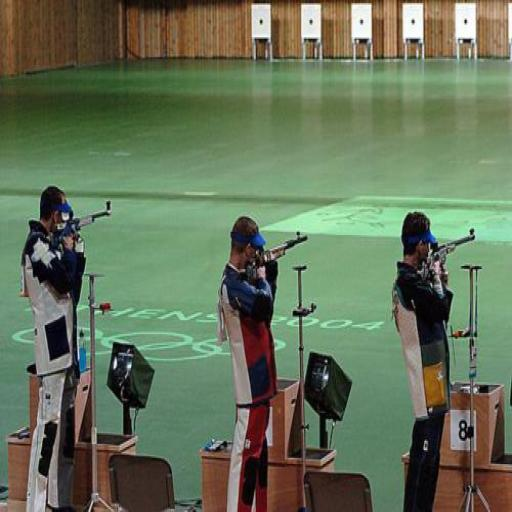shooting: (20, 184, 88, 511), (390, 209, 457, 510), (215, 214, 282, 510)
